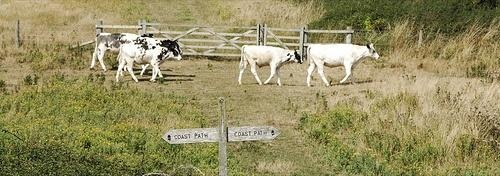cow: (303, 42, 380, 87), (114, 36, 182, 86), (237, 46, 302, 87), (89, 32, 144, 72)
